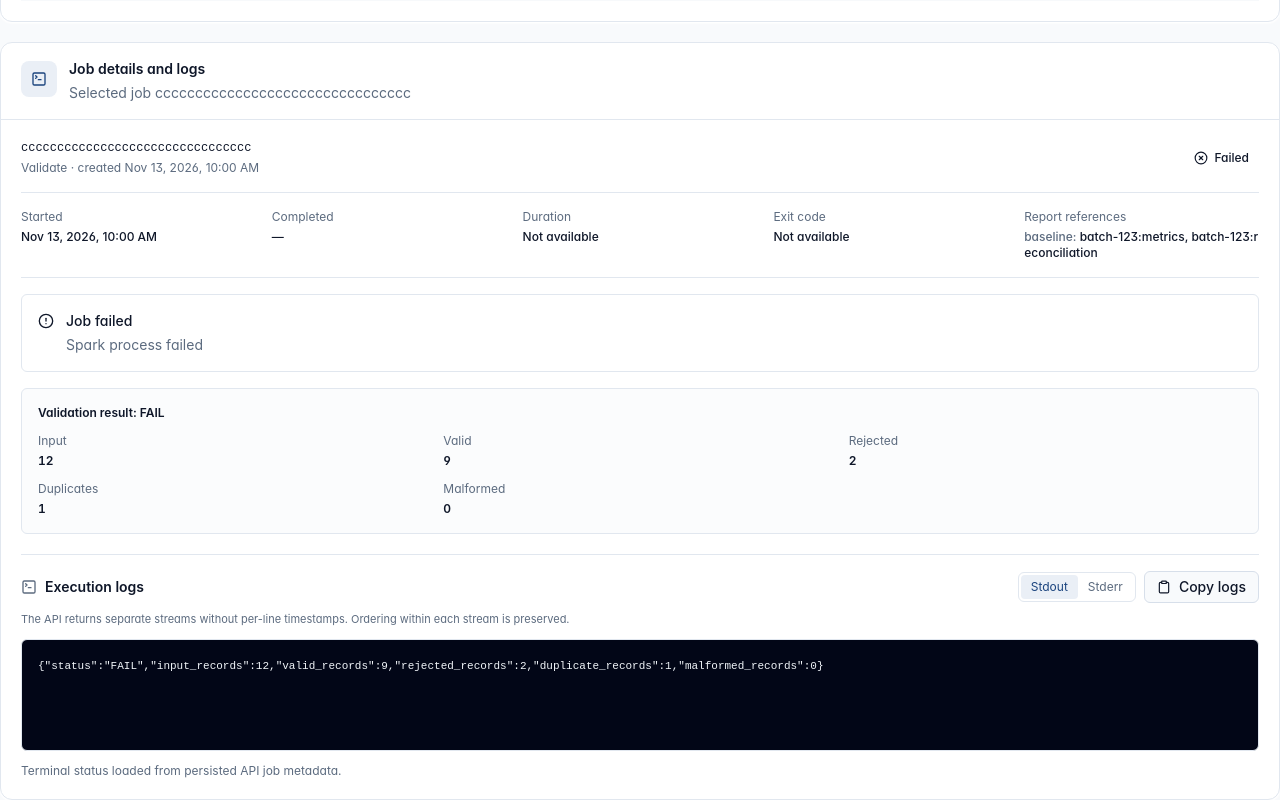
Test: JobMonitor › shows persisted job status, validation result, and separate log streams
(page scrolled)
Expected: the text "Job failed" is shown, [66,312,132,329]
Expected: the text "Spark process failed" is shown, [66,335,203,355]
Click the button "stderr". click: (1105, 587)
box: [1078,575,1133,599]
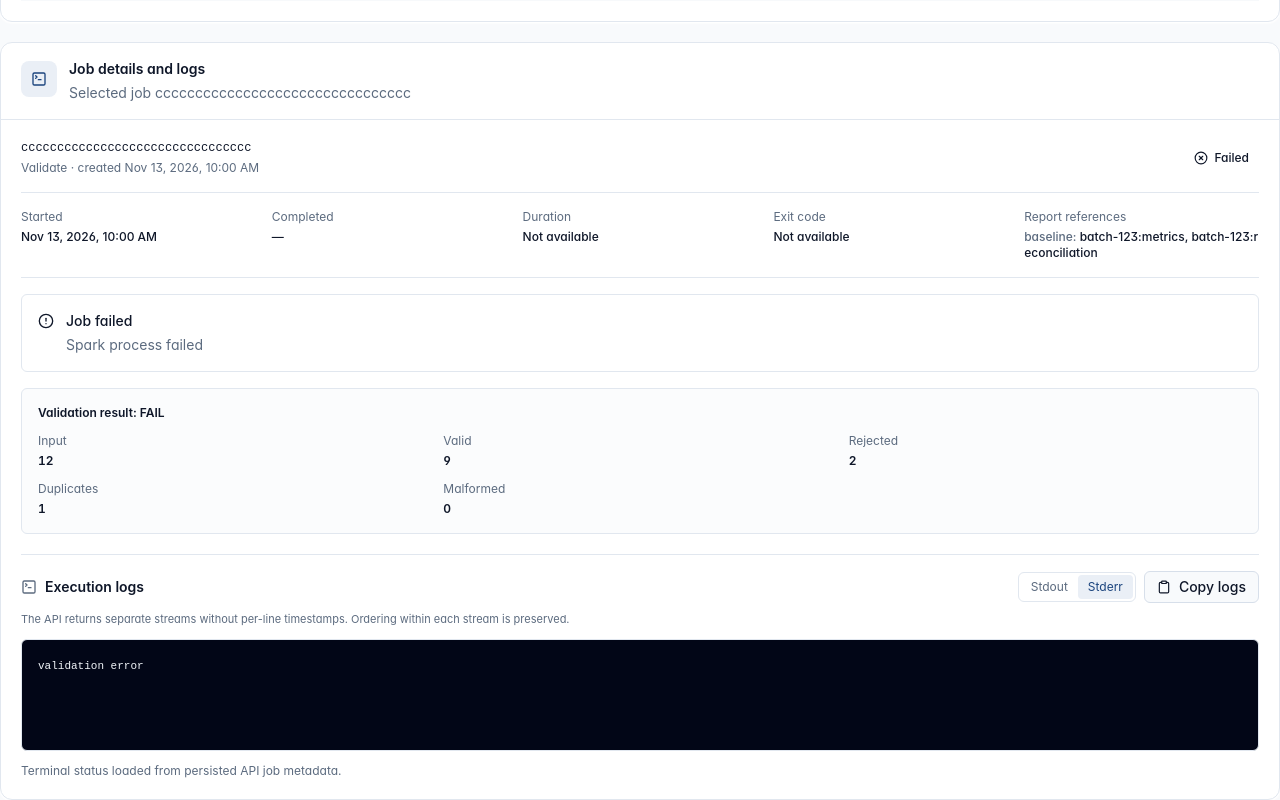
Expected: the text "without per-line timestamps" is shown, [21,612,570,626]
Expected: the text named "stderr execution log" reads "validation error", [38,660,144,672]
